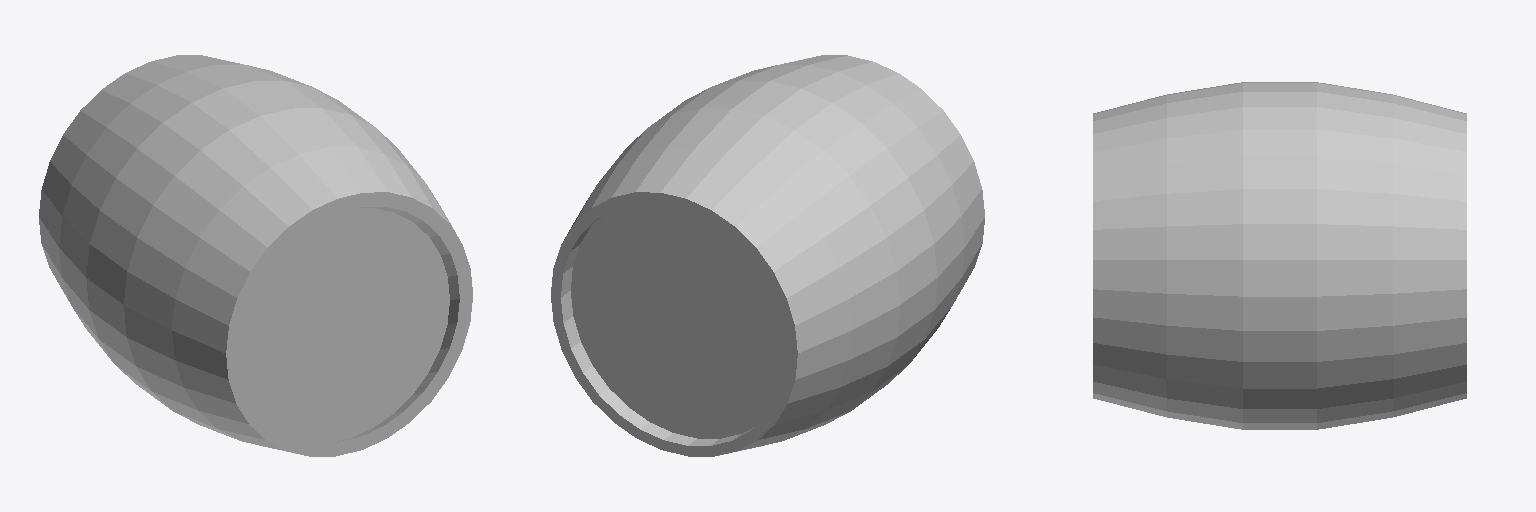
3 renders of one model, left to right at view 1: azimuth 30°, elevation 25°; view 2: azimuth 150°, elevation 25°; view 3: azimuth 270°, elevation 25°, orthographic.
Visible parts, largest first — view 1: WoodBarrel_LP_Cylinder.003; view 2: WoodBarrel_LP_Cylinder.003; view 3: WoodBarrel_LP_Cylinder.003.
Boxes of the visible parts, <box> form: WoodBarrel_LP_Cylinder.003: <box>39,55,472,456</box>; WoodBarrel_LP_Cylinder.003: <box>551,55,984,456</box>; WoodBarrel_LP_Cylinder.003: <box>1093,82,1466,429</box>.
Bounding box in the file's own units: 27.41 × 27.28 × 29.45.